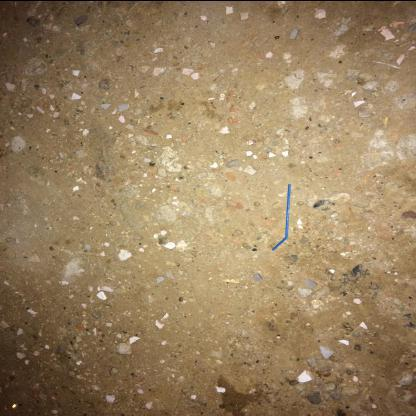plastik: (273, 183, 293, 251)
